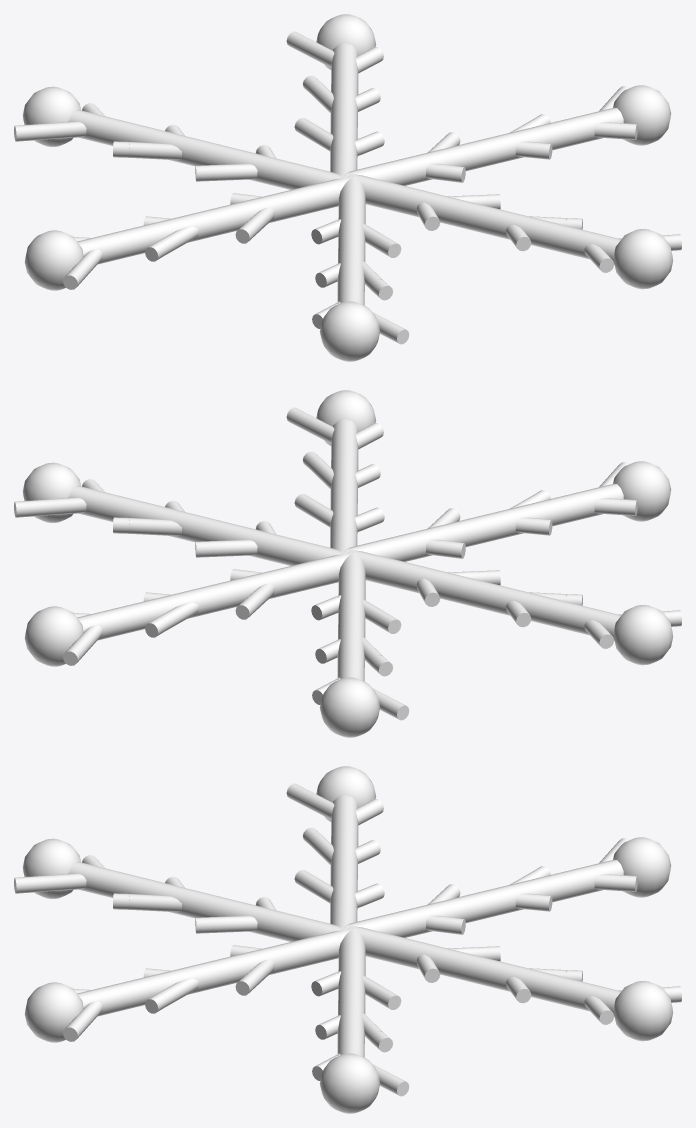
Rendered from Snowflake.obj.
The picture shows the model from 3 angles, top to bottom: view 1: azimuth 30°, elevation 25°; view 2: azimuth 150°, elevation 25°; view 3: azimuth 270°, elevation 25°; orthographic projection.
Parts seen in each view (by area): view 1: s0000.8420, o0007.3738, s0005.9738, s0004.7240, s0006.7848, s0001.5541, s0003.6054, s0002.5817; view 2: s0000.8420, o0007.3738, s0005.9738, s0004.7240, s0006.7848, s0001.5541, s0003.6054, s0002.5817; view 3: s0000.8420, o0007.3738, s0005.9738, s0004.7240, s0006.7848, s0001.5541, s0003.6054, s0002.5817.
Part boxes in pixels (x1,y1,x2,y2): s0000.8420: (68, 43, 623, 305); o0007.3738: (22, 14, 673, 361); s0005.9738: (113, 75, 582, 300); s0004.7240: (195, 118, 500, 257); s0006.7848: (14, 31, 681, 344); s0001.5541: (230, 131, 465, 244); s0003.6054: (73, 47, 637, 328); s0002.5817: (143, 88, 552, 287); s0000.8420: (68, 419, 623, 681); o0007.3738: (22, 390, 673, 737); s0005.9738: (113, 451, 582, 676); s0004.7240: (195, 494, 500, 633); s0006.7848: (14, 407, 681, 720); s0001.5541: (230, 507, 465, 620); s0003.6054: (73, 423, 637, 704); s0002.5817: (143, 464, 552, 663); s0000.8420: (68, 795, 623, 1057); o0007.3738: (22, 766, 673, 1113); s0005.9738: (113, 827, 582, 1052); s0004.7240: (195, 870, 500, 1009); s0006.7848: (14, 783, 681, 1096); s0001.5541: (230, 883, 465, 996); s0003.6054: (73, 799, 637, 1080); s0002.5817: (143, 840, 552, 1039).
Bounding box in the file's own units: 5.94 × 0.4851 × 5.36.
1 material, 1 textured.
